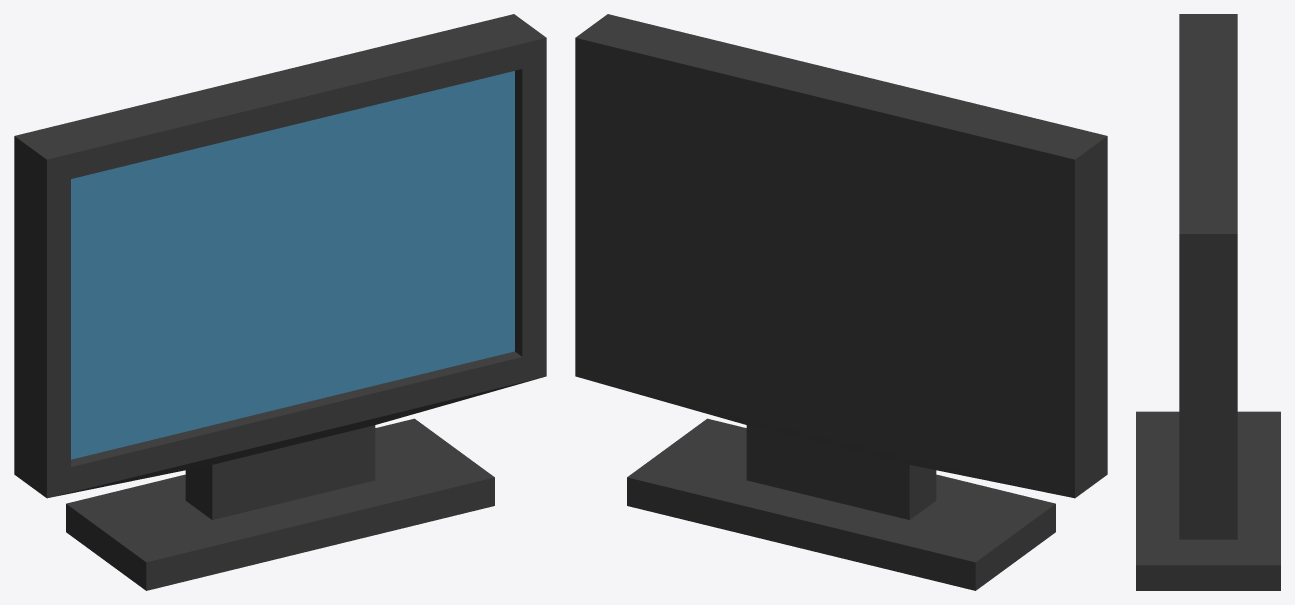
The model's file is computermonitor.fbx.
3 views of the same model, side by side, from view 1: azimuth 30°, elevation 25°; view 2: azimuth 150°, elevation 25°; view 3: azimuth 270°, elevation 25° (orthographic). The views are drawn at different scales.
Parts seen in each view (by area): view 1: monitor; view 2: monitor; view 3: monitor.
Part boxes in pixels (x1,y1,x2,y2): monitor: (14,14,546,590); monitor: (575,14,1107,590); monitor: (1136,14,1280,590).
Size of the model in its own units: 0.4991 by 0.1389 by 0.4125.
1 material, 1 textured.
